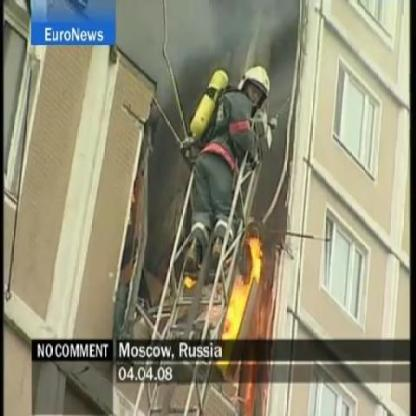fire: (227, 236, 265, 336), (183, 275, 196, 288)
